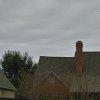Chimney: (68, 34, 89, 80)
